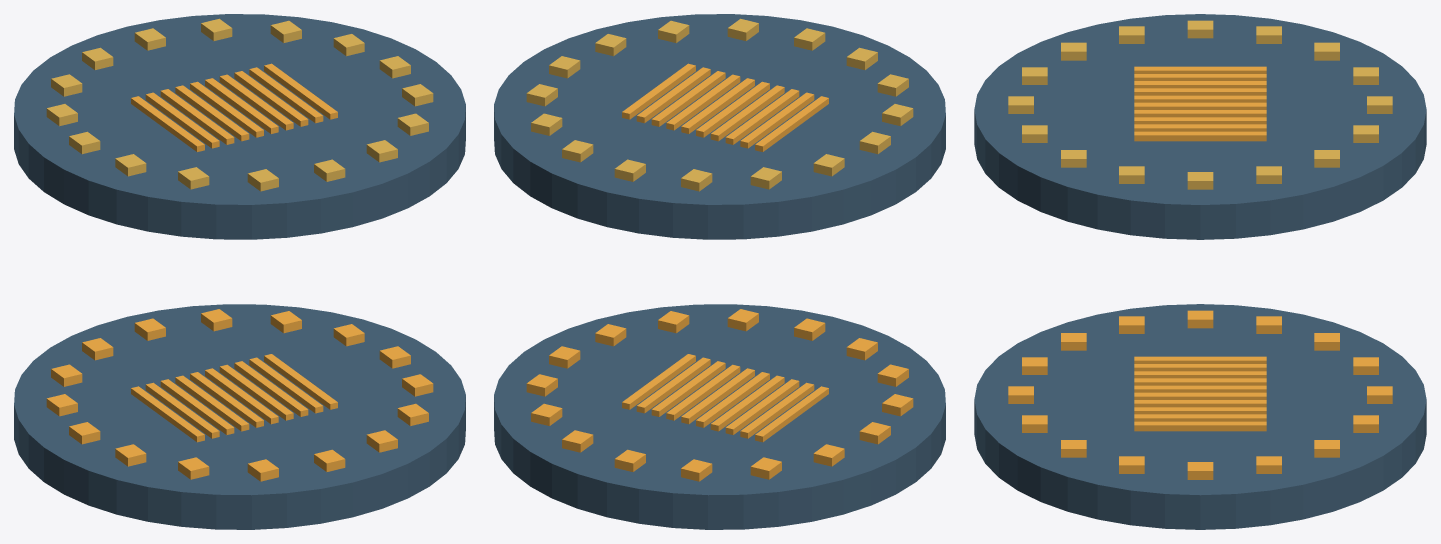
File: 44_L79_MultiZoneBondHeater.fbx
3 renders of one model, left to right at view 1: azimuth 30°, elevation 25°; view 2: azimuth 150°, elevation 25°; view 3: azimuth 270°, elevation 25°, orthographic.
Visible parts, largest first — view 1: MultiZoneBondHeater, MultiZoneBondHeater_Part_0054, MultiZoneBondHeater_Part_0041, MultiZoneBondHeater_Part_0042, MultiZoneBondHeater_Part_0048, MultiZoneBondHeater_Part_0049, MultiZoneBondHeater_Part_0036, MultiZoneBondHeater_Part_0037, MultiZoneBondHeater_Part_0038, MultiZoneBondHeater_Part_0047, MultiZoneBondHeater_Part_0053, MultiZoneBondHeater_Part_0043 (+9 smaller); view 2: MultiZoneBondHeater, MultiZoneBondHeater_Part_0054, MultiZoneBondHeater_Part_0041, MultiZoneBondHeater_Part_0042, MultiZoneBondHeater_Part_0048, MultiZoneBondHeater_Part_0049, MultiZoneBondHeater_Part_0036, MultiZoneBondHeater_Part_0037, MultiZoneBondHeater_Part_0038, MultiZoneBondHeater_Part_0047, MultiZoneBondHeater_Part_0053, MultiZoneBondHeater_Part_0043 (+9 smaller); view 3: MultiZoneBondHeater, MultiZoneBondHeater_Part_0055, MultiZoneBondHeater_Part_0044, MultiZoneBondHeater_Part_0046, MultiZoneBondHeater_Part_0047, MultiZoneBondHeater_Part_0048, MultiZoneBondHeater_Part_0049, MultiZoneBondHeater_Part_0050, MultiZoneBondHeater_Part_0051, MultiZoneBondHeater_Part_0052, MultiZoneBondHeater_Part_0053, MultiZoneBondHeater_Part_0054 (+9 smaller).
Boxes of the visible parts, left/top/right/bottom form: MultiZoneBondHeater: left=14, top=14, right=465, bottom=529; MultiZoneBondHeater_Part_0054: left=249, top=357, right=323, bottom=413; MultiZoneBondHeater_Part_0041: left=219, top=74, right=293, bottom=130; MultiZoneBondHeater_Part_0042: left=234, top=71, right=308, bottom=126; MultiZoneBondHeater_Part_0048: left=160, top=379, right=234, bottom=434; MultiZoneBondHeater_Part_0049: left=175, top=375, right=249, bottom=431; MultiZoneBondHeater_Part_0036: left=145, top=92, right=219, bottom=148; MultiZoneBondHeater_Part_0037: left=160, top=89, right=234, bottom=144; MultiZoneBondHeater_Part_0038: left=175, top=85, right=249, bottom=141; MultiZoneBondHeater_Part_0047: left=145, top=382, right=219, bottom=438; MultiZoneBondHeater_Part_0053: left=234, top=361, right=308, bottom=416; MultiZoneBondHeater_Part_0043: left=249, top=67, right=323, bottom=123; MultiZoneBondHeater: left=494, top=14, right=945, bottom=529; MultiZoneBondHeater_Part_0054: left=636, top=357, right=710, bottom=413; MultiZoneBondHeater_Part_0041: left=666, top=74, right=740, bottom=130; MultiZoneBondHeater_Part_0042: left=651, top=71, right=725, bottom=126; MultiZoneBondHeater_Part_0048: left=725, top=379, right=799, bottom=434; MultiZoneBondHeater_Part_0049: left=710, top=375, right=784, bottom=431; MultiZoneBondHeater_Part_0036: left=740, top=92, right=814, bottom=148; MultiZoneBondHeater_Part_0037: left=725, top=89, right=799, bottom=144; MultiZoneBondHeater_Part_0038: left=710, top=85, right=784, bottom=141; MultiZoneBondHeater_Part_0047: left=740, top=382, right=814, bottom=438; MultiZoneBondHeater_Part_0053: left=651, top=361, right=725, bottom=416; MultiZoneBondHeater_Part_0043: left=636, top=67, right=710, bottom=123; MultiZoneBondHeater: left=974, top=14, right=1426, bottom=529; MultiZoneBondHeater_Part_0055: left=1134, top=421, right=1266, bottom=431; MultiZoneBondHeater_Part_0044: left=1134, top=131, right=1266, bottom=141; MultiZoneBondHeater_Part_0046: left=1134, top=356, right=1266, bottom=363; MultiZoneBondHeater_Part_0047: left=1134, top=364, right=1266, bottom=371; MultiZoneBondHeater_Part_0048: left=1134, top=371, right=1266, bottom=378; MultiZoneBondHeater_Part_0049: left=1134, top=378, right=1266, bottom=385; MultiZoneBondHeater_Part_0050: left=1134, top=385, right=1266, bottom=392; MultiZoneBondHeater_Part_0051: left=1134, top=392, right=1266, bottom=399; MultiZoneBondHeater_Part_0052: left=1134, top=400, right=1266, bottom=407; MultiZoneBondHeater_Part_0053: left=1134, top=407, right=1266, bottom=414; MultiZoneBondHeater_Part_0054: left=1134, top=414, right=1266, bottom=421.
Size of the model in its own units: 212 by 172 by 212.
